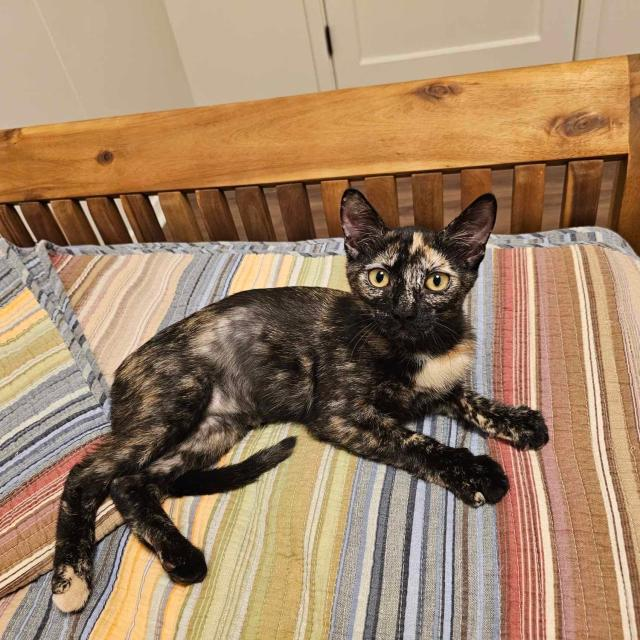domestic_short_hair_cat: (324, 180, 503, 361)
